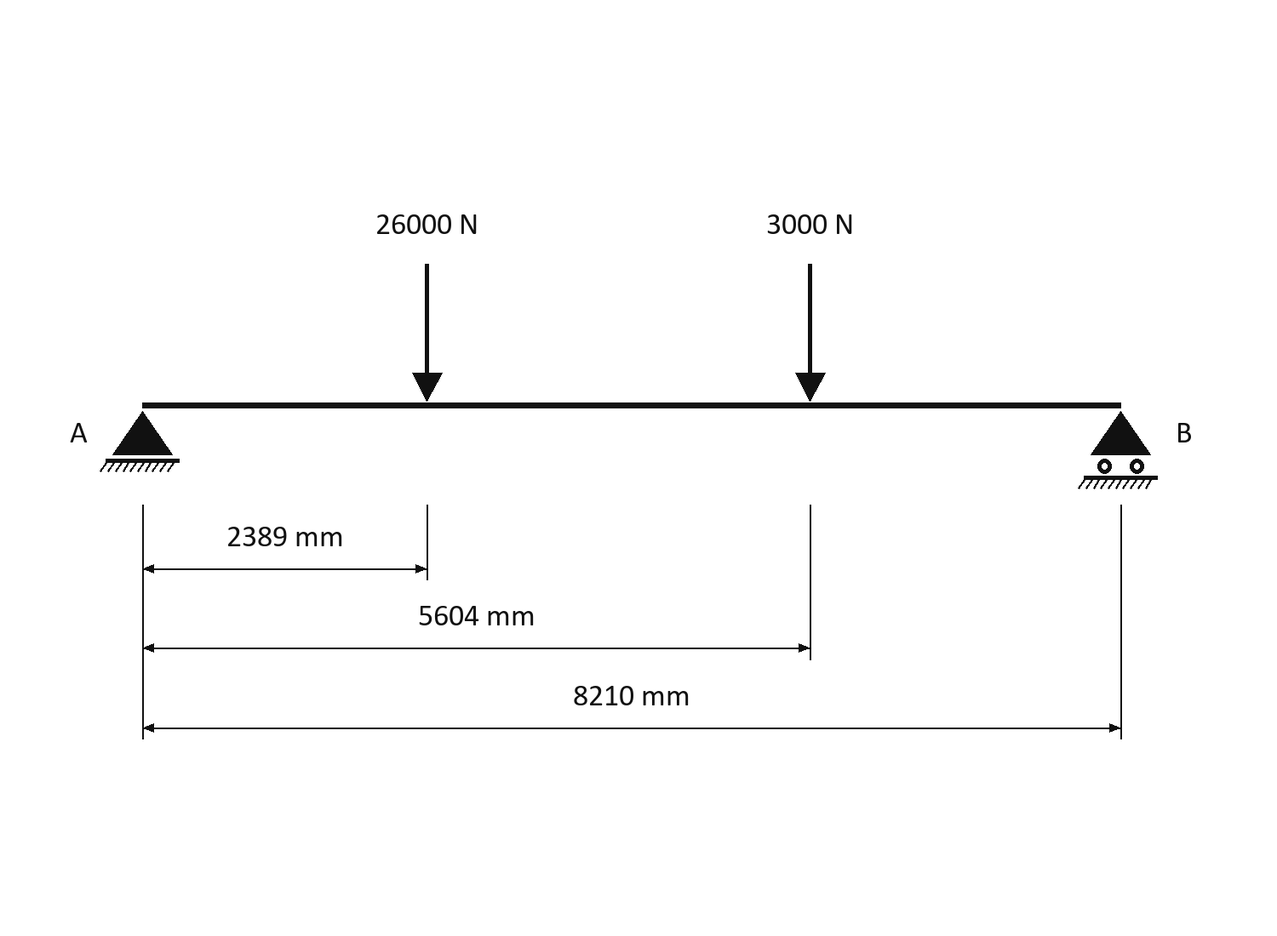pin_support: (100, 411, 180, 472)
point_load: (412, 264, 443, 402), (795, 264, 826, 402)
roller_support: (1078, 411, 1158, 489)
